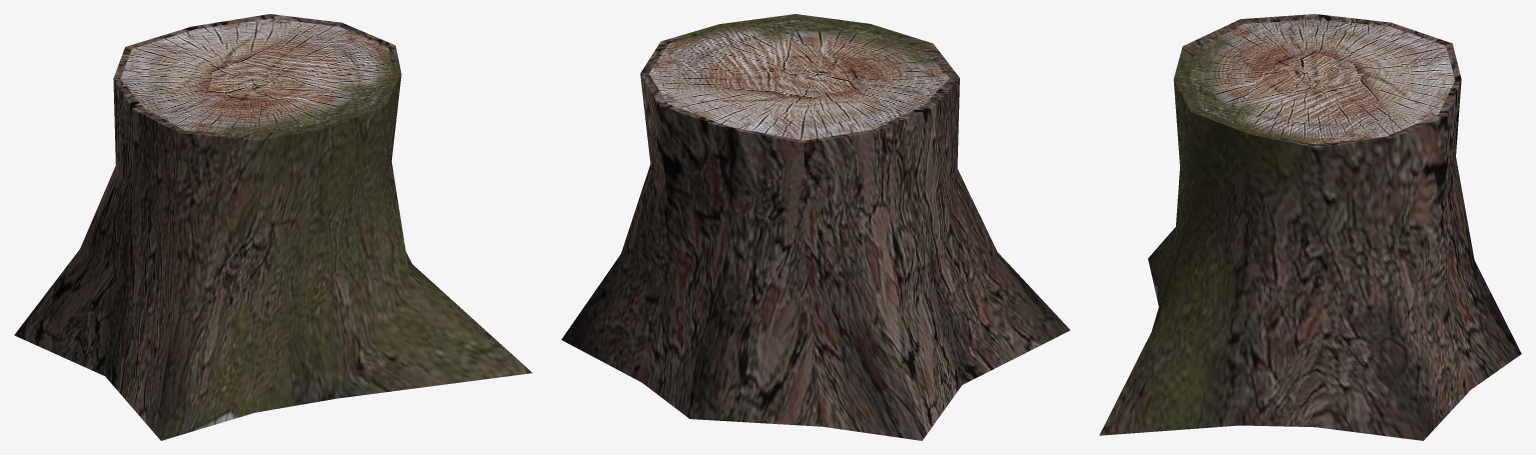
The model's file is stump.fbx.
3 views of the same model, side by side, from view 1: azimuth 30°, elevation 25°; view 2: azimuth 150°, elevation 25°; view 3: azimuth 270°, elevation 25° (orthographic). The views are drawn at different scales.
Visible parts, largest first — view 1: pCylinder1; view 2: pCylinder1; view 3: pCylinder1.
Boxes of the visible parts, x1,y1,x2,y2 form: pCylinder1: [14, 14, 532, 440]; pCylinder1: [561, 14, 1070, 440]; pCylinder1: [1099, 14, 1521, 440].
Bounding box in the file's own units: 7.06 × 4.86 × 6.87.
